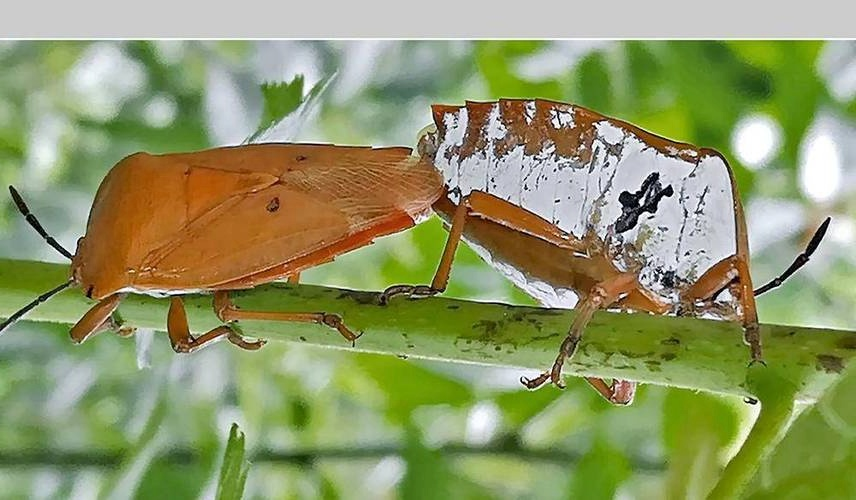Stink_Bug: (54, 97, 758, 338)
